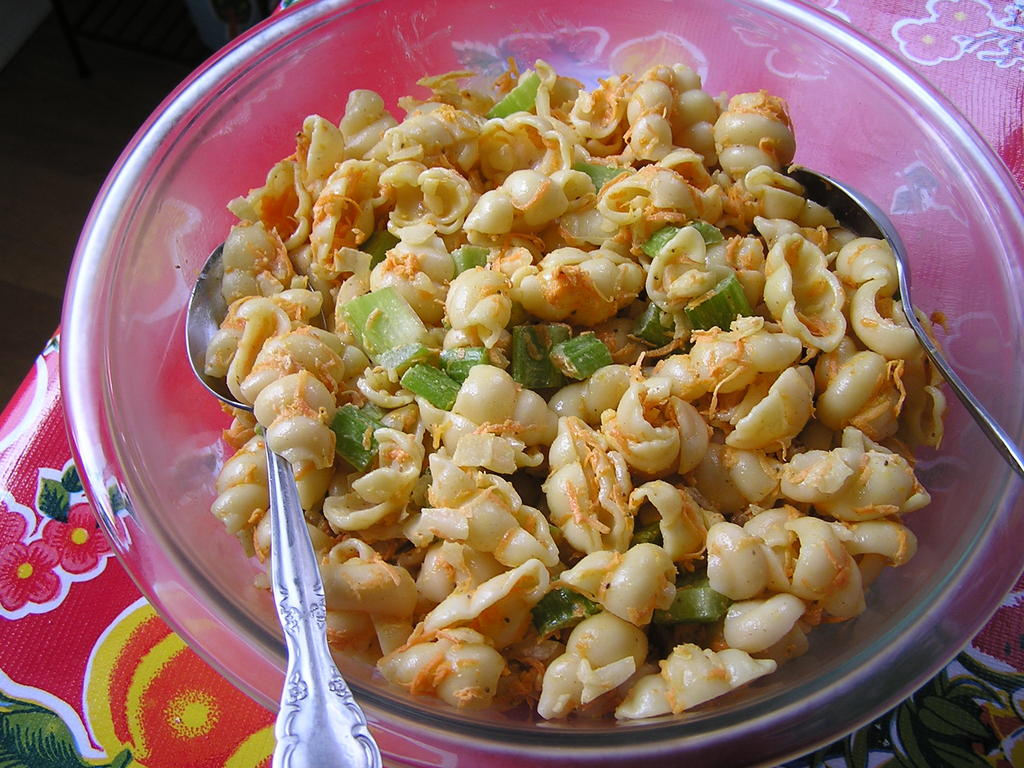pasta: (185, 22, 936, 714)
